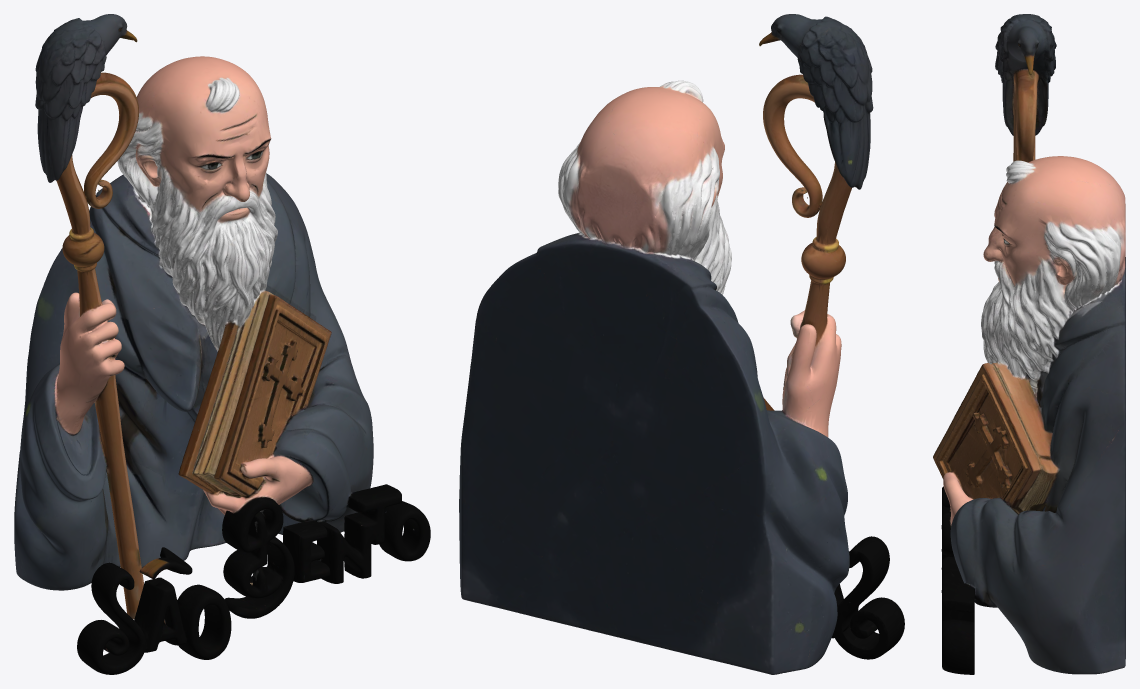
File: bento.glb
3 renders of one model, left to right at view 1: azimuth 30°, elevation 25°; view 2: azimuth 150°, elevation 25°; view 3: azimuth 270°, elevation 25°, orthographic. The views are drawn at different scales.
Size of the model in its own units: 1.12 by 1.9 by 0.579.
1 material, 1 textured.
